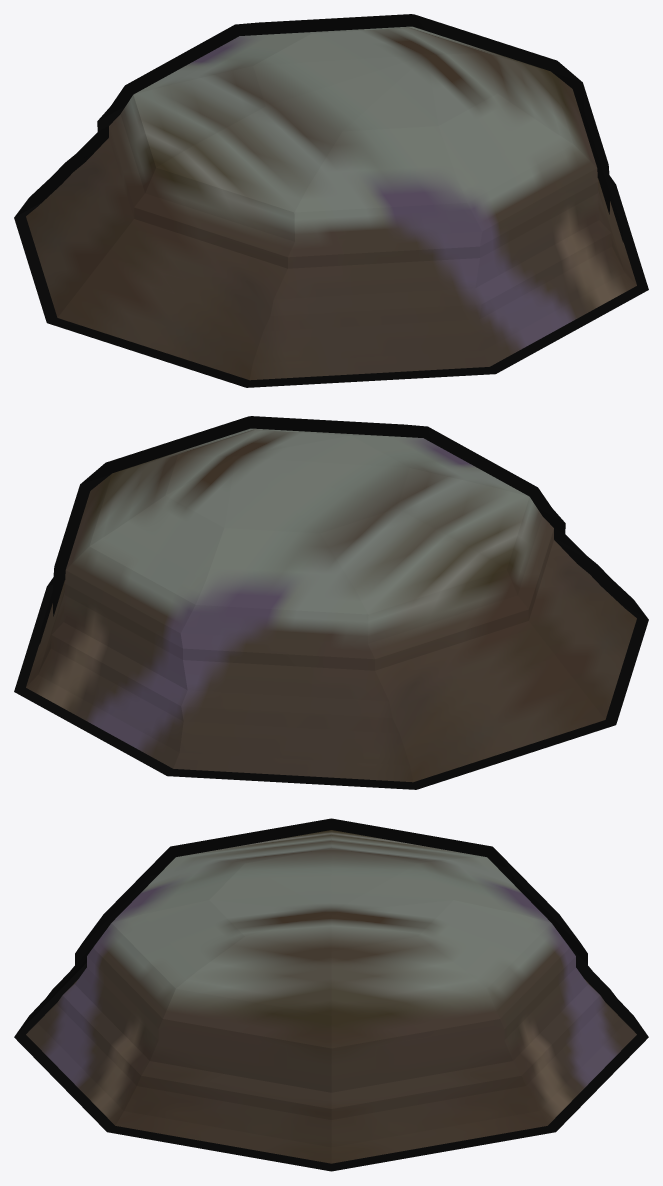
The model's file is Plant_ChoppedStump_Polux_Things_Plant_Stumps_TreePolux_Chopped_StumpChoppedPoluxB.glb.
3 renders of one model, top to bottom at view 1: azimuth 30°, elevation 25°; view 2: azimuth 150°, elevation 25°; view 3: azimuth 270°, elevation 25°, orthographic. The views are drawn at different scales.
Parts seen in each view (by area): view 1: Body, Outline; view 2: Body, Outline; view 3: Body, Outline.
Boxes of the visible parts, <box> form: Body: <box>26,26,636,380</box>; Outline: <box>14,14,648,387</box>; Body: <box>26,428,636,782</box>; Outline: <box>14,416,648,789</box>; Body: <box>26,830,636,1163</box>; Outline: <box>14,818,648,1171</box>.
Size of the model in its own units: 0.4058 by 0.1562 by 0.4058.
2 materials, 1 textured.
